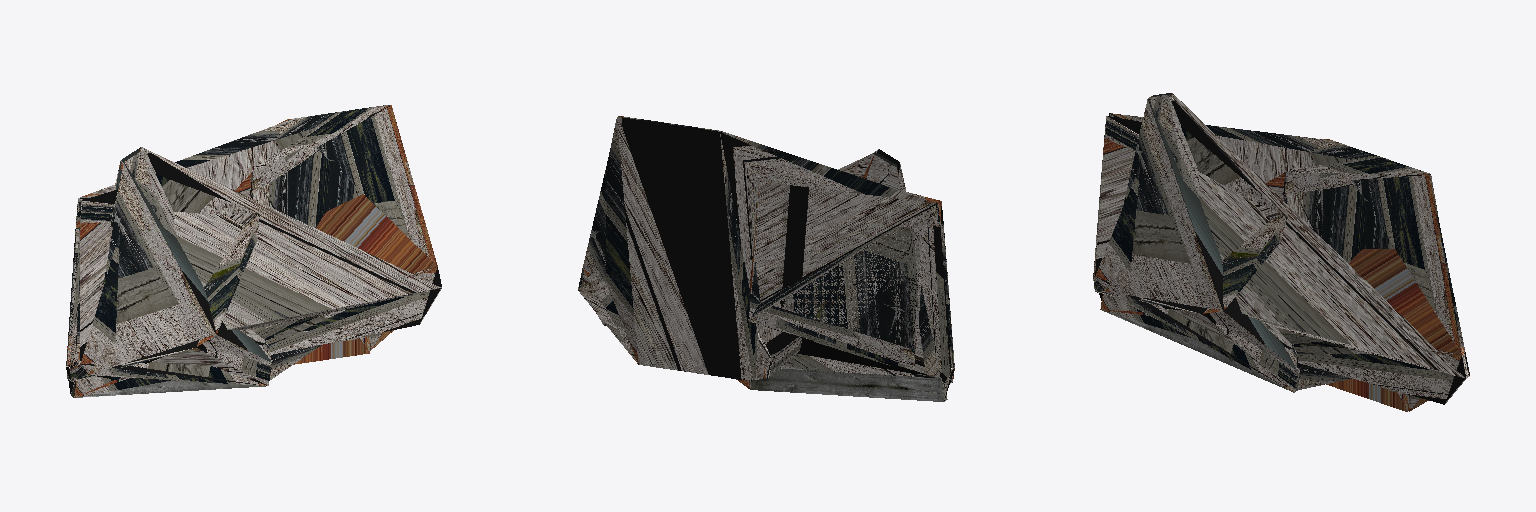
3 renders of one model, left to right at view 1: azimuth 30°, elevation 25°; view 2: azimuth 150°, elevation 25°; view 3: azimuth 330°, elevation 25°, orthographic.
Visible parts, largest first — view 1: Cylinder001, Box001, Box002; view 2: Cylinder001, Box001, Box002; view 3: Cylinder001, Box001, Box002.
Boxes of the visible parts, x1=… form: Cylinder001: x1=66, y1=105, x2=441, y2=397; Box001: x1=66, y1=105, x2=437, y2=393; Box002: x1=71, y1=380, x2=265, y2=397; Cylinder001: x1=579, y1=116, x2=954, y2=388; Box001: x1=578, y1=119, x2=954, y2=400; Box002: x1=749, y1=368, x2=947, y2=401; Cylinder001: x1=1093, y1=93, x2=1465, y2=411; Box001: x1=1095, y1=95, x2=1469, y2=411; Box002: x1=1102, y1=310, x2=1299, y2=392.
Bounding box in the file's own units: 89.08 × 61.17 × 7.2.
6 materials, 5 textured.